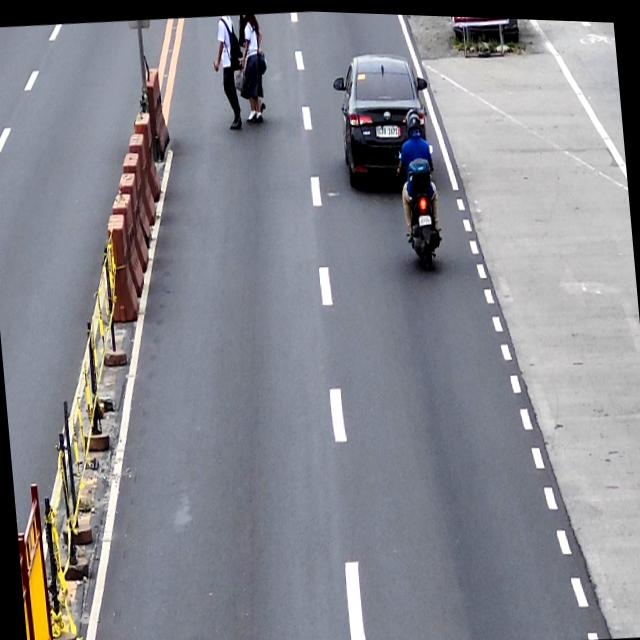Car: (332, 48, 424, 183)
License-Plate: (376, 117, 398, 138)
Motorcycle: (397, 109, 442, 265)
